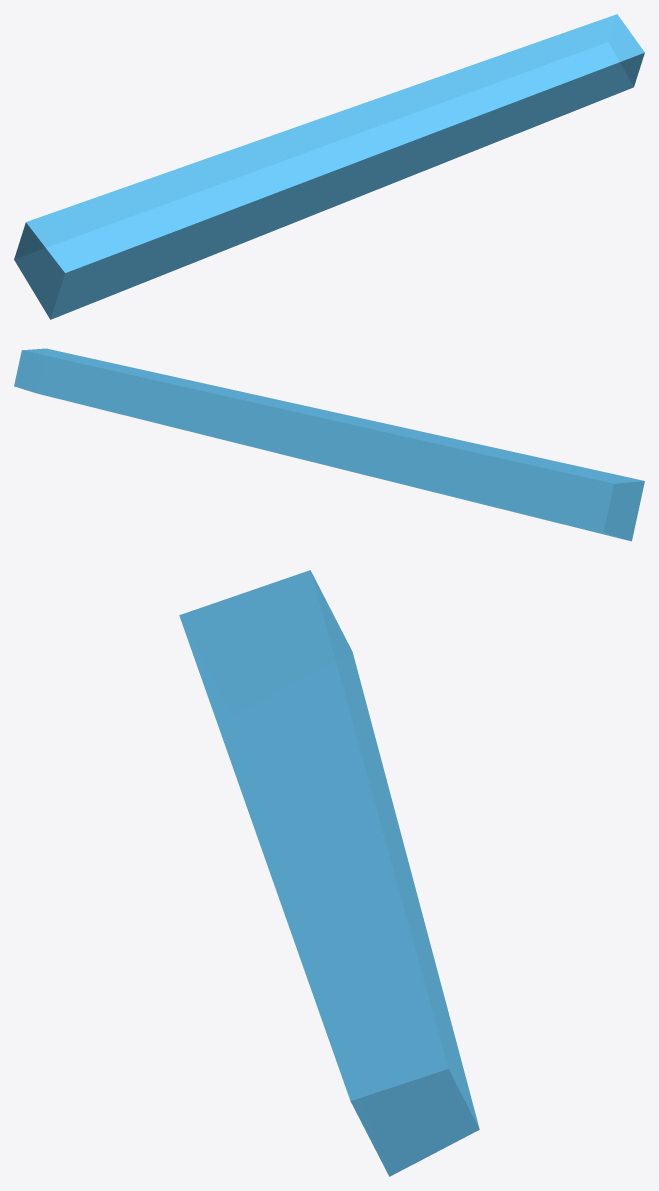
The model's file is Event_421127236_HErechit_4.fbx.
3 views of the same model, one above another, from view 1: azimuth 30°, elevation 25°; view 2: azimuth 150°, elevation 25°; view 3: azimuth 270°, elevation 25° (orthographic). The views are drawn at different scales.
Parts seen in each view (by area): view 1: Model; view 2: Model; view 3: Model.
Boxes of the visible parts, box(x1,y1,x2,y2) form: Model: box(14, 14, 644, 319); Model: box(14, 348, 644, 541); Model: box(179, 570, 479, 1176).
Bounding box in the file's own units: 3.52 × 0.5747 × 0.8212.
